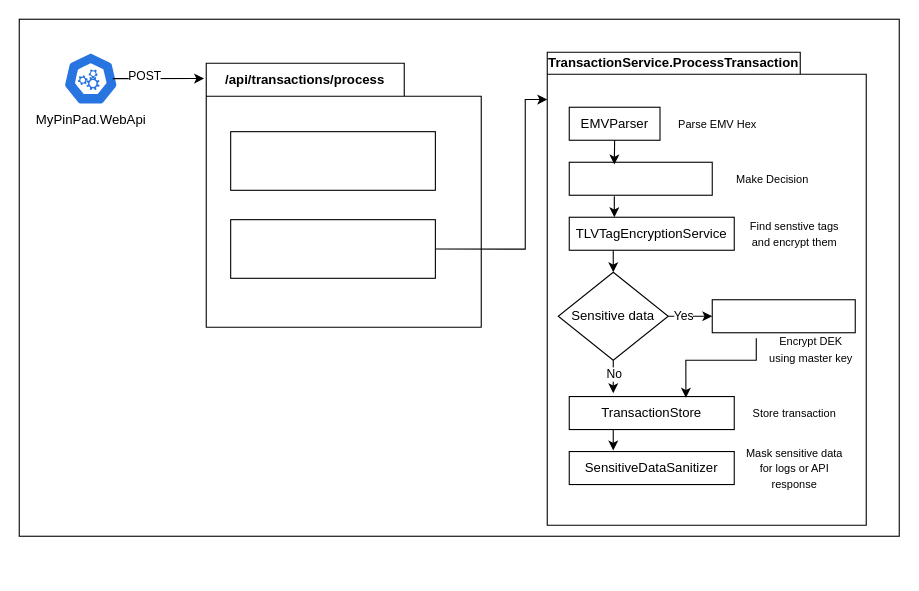
Some shapes in this 919 by 591 pixel diagram are drawn without their labels. The centre of each missing label's shape, as x and y in pixels:
"DEKEncryptionService" goes at (x=783, y=316).
"IntegrityValidator" goes at (x=332, y=160).
"TransactionProcessor" goes at (x=640, y=178).
"TransactionService" goes at (x=332, y=248).
